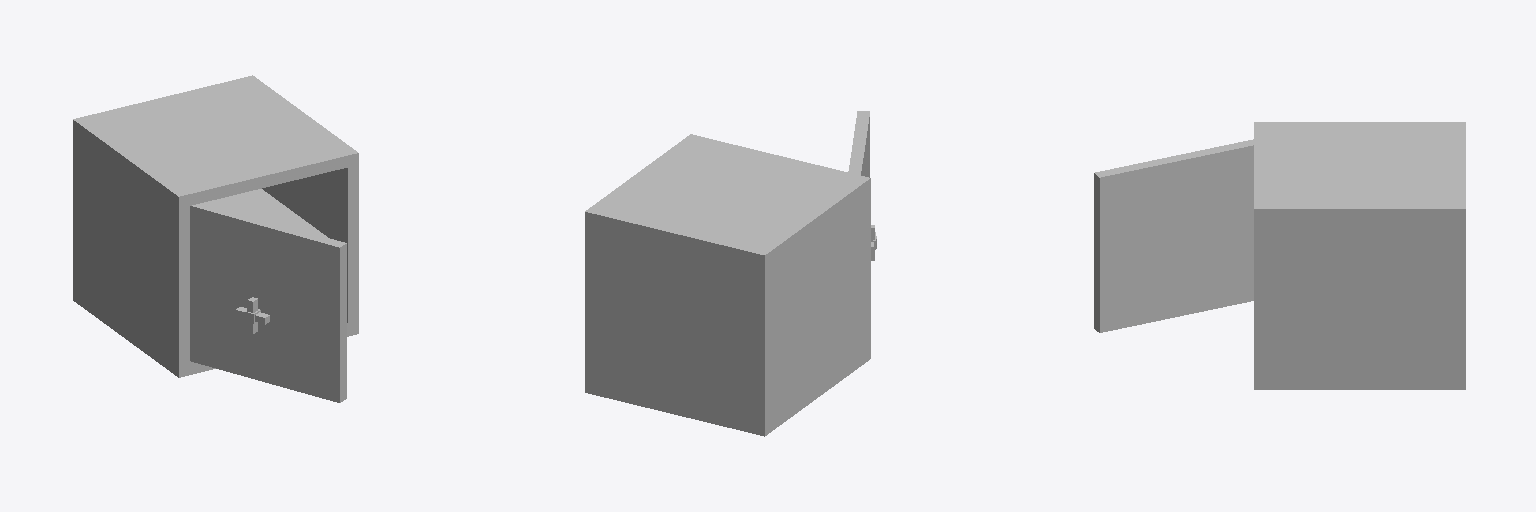
File: Safe.obj
3 renders of one model, left to right at view 1: azimuth 30°, elevation 25°; view 2: azimuth 150°, elevation 25°; view 3: azimuth 270°, elevation 25°, orthographic.
Parts seen in each view (by area): view 1: Box001, Object001; view 2: Box001, Object001; view 3: Box001, Object001.
Part boxes in pixels (x1,y1,x2,y2): Box001: (73,75,358,377); Object001: (190,203,346,402); Box001: (585,134,870,436); Object001: (848,111,876,260); Box001: (1254,122,1465,389); Object001: (1094,139,1253,332).
Bounding box in the file's own units: 56.29 × 54.05 × 101.